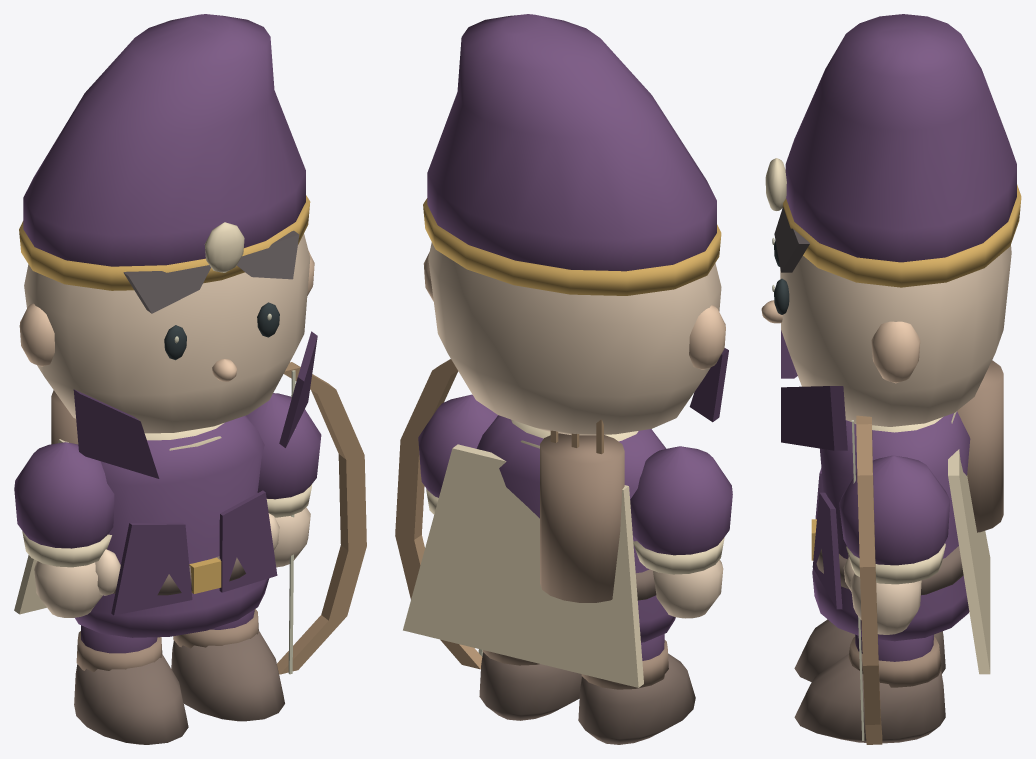
The model's file is archer.glb.
3 views of the same model, side by side, from view 1: azimuth 30°, elevation 25°; view 2: azimuth 150°, elevation 25°; view 3: azimuth 270°, elevation 25° (orthographic). The views are drawn at different scales.
Visible parts, largest first — view 1: Folded Persian tiara, Soft cheek head, Short folded tunic, Puff sleeve, Curved bow, Round leather boot, Round leather boot.001, Coat fold, Puff sleeve.001, Tiara gold band, Hood cheek cowl, Coat fold.001 (+20 smaller); view 2: Folded Persian tiara, Soft cheek head, Persian shoulder drape, Quiver leather, Puff sleeve, Tiara gold band, Short folded tunic, Round leather boot, Curved bow, Round leather boot.001, Puff sleeve.001, Little mitten (+4 smaller); view 3: Folded Persian tiara, Soft cheek head, Short folded tunic, Puff sleeve.001, Round leather boot.001, Tiara gold band, Curved bow, Quiver leather, Persian shoulder drape, Hood cheek cowl R, Ear.001, Little mitten.001 (+11 smaller).
Boxes of the visible parts, x1,y1,x2,y2 form: Folded Persian tiara: [23, 14, 305, 266]; Soft cheek head: [24, 234, 310, 433]; Short folded tunic: [75, 415, 269, 637]; Puff sleeve: [14, 442, 114, 548]; Curved bow: [277, 362, 366, 674]; Round leather boot: [74, 654, 188, 744]; Round leather boot.001: [171, 630, 284, 721]; Coat fold: [111, 522, 192, 615]; Puff sleeve.001: [246, 393, 321, 499]; Tiara gold band: [19, 195, 310, 290]; Hood cheek cowl: [73, 389, 159, 478]; Coat fold.001: [219, 490, 277, 592]; Folded Persian tiara: [427, 14, 716, 271]; Soft cheek head: [428, 242, 721, 435]; Persian shoulder drape: [403, 444, 643, 687]; Quiver leather: [540, 433, 624, 602]; Puff sleeve: [630, 446, 732, 555]; Tiara gold band: [423, 198, 721, 295]; Short folded tunic: [476, 415, 675, 642]; Round leather boot: [578, 653, 695, 744]; Curved bow: [395, 359, 482, 669]; Round leather boot.001: [479, 652, 581, 720]; Puff sleeve.001: [418, 394, 497, 497]; Little mitten: [653, 560, 723, 618]; Folded Persian tiara: [785, 14, 1016, 262]; Soft cheek head: [780, 245, 1011, 426]; Short folded tunic: [812, 411, 970, 641]; Puff sleeve.001: [839, 455, 950, 565]; Round leather boot.001: [794, 654, 945, 743]; Tiara gold band: [782, 184, 1021, 287]; Curved bow: [856, 415, 882, 744]; Quiver leather: [957, 360, 1003, 532]; Persian shoulder drape: [948, 449, 990, 674]; Hood cheek cowl R: [781, 386, 847, 450]; Ear.001: [871, 321, 920, 383]; Little mitten.001: [850, 573, 921, 634].
Size of the model in its own units: 0.89 by 1.72 by 0.584.
